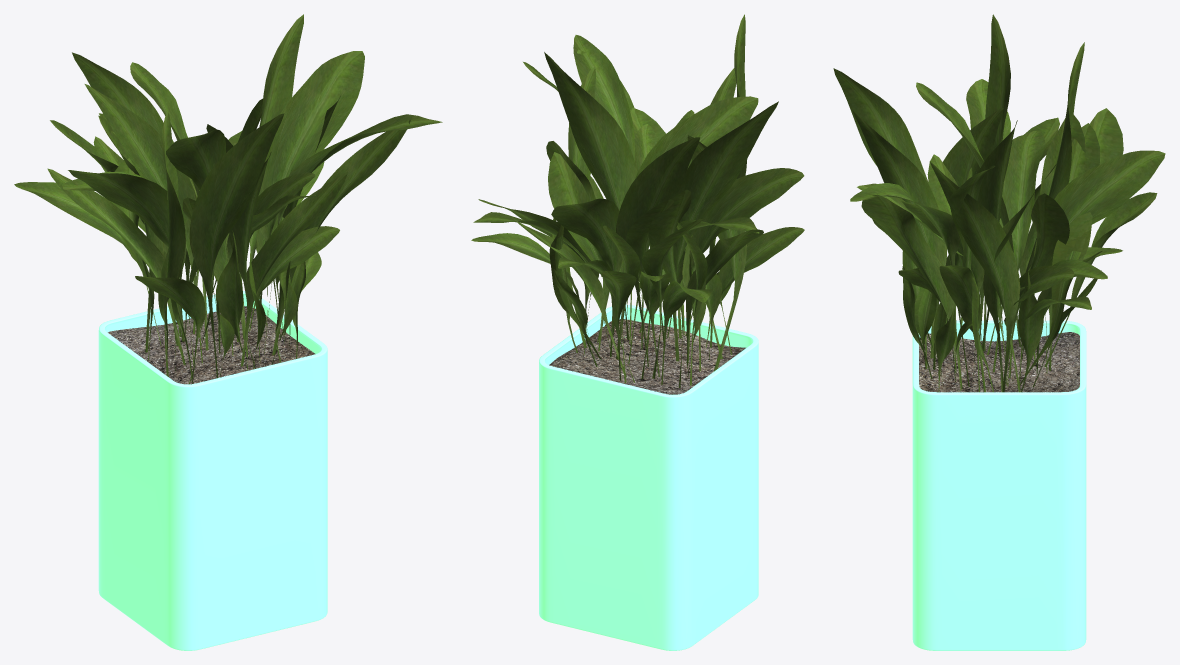
The model's file is tree_s3.glb.
3 views of the same model, side by side, from view 1: azimuth 30°, elevation 25°; view 2: azimuth 150°, elevation 25°; view 3: azimuth 270°, elevation 25° (orthographic). The views are drawn at different scales.
Visible parts, largest first — view 1: Mesh1_Rectangle002_0, Mesh3_grt_0, Mesh2_TEXTURE1_0; view 2: Mesh1_Rectangle002_0, Mesh3_grt_0, Mesh2_TEXTURE1_0; view 3: Mesh3_grt_0, Mesh1_Rectangle002_0, Mesh2_TEXTURE1_0.
Part boxes in pixels (x1,y1,x2,y2): Mesh1_Rectangle002_0: (98,291,327,650); Mesh3_grt_0: (14,14,442,384); Mesh2_TEXTURE1_0: (108,306,315,384); Mesh1_Rectangle002_0: (539,304,758,650); Mesh3_grt_0: (471,14,804,388); Mesh2_TEXTURE1_0: (549,319,746,394); Mesh3_grt_0: (833,14,1165,392); Mesh1_Rectangle002_0: (912,320,1086,650); Mesh2_TEXTURE1_0: (919,332,1079,392).
Size of the model in its own units: 6.72 by 11.72 by 6.51.
3 materials, 2 textured.
